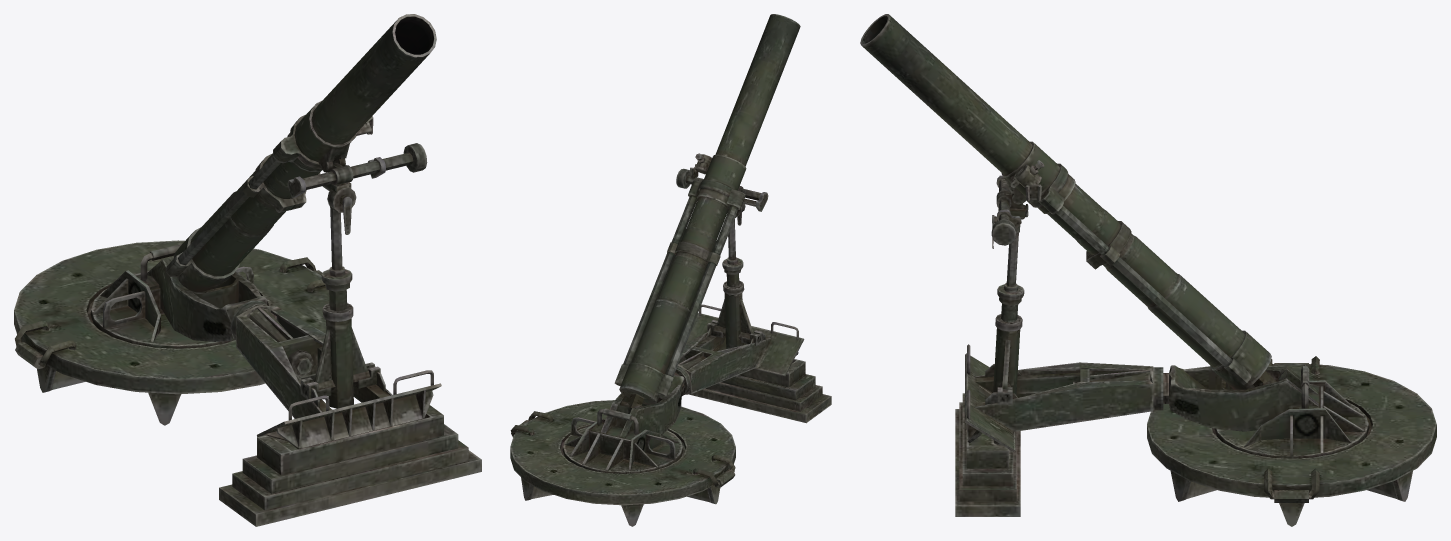
Rendered from m30_mortar_warno.glb.
The picture shows the model from 3 angles, left to right: view 1: azimuth 30°, elevation 25°; view 2: azimuth 150°, elevation 25°; view 3: azimuth 270°, elevation 25°; orthographic projection. The views are drawn at different scales.
Parts seen in each view (by area): view 1: Object_2; view 2: Object_2; view 3: Object_2.
Boxes of the visible parts, bbox=[...] form: Object_2: bbox=[14, 14, 481, 526]; Object_2: bbox=[510, 14, 831, 526]; Object_2: bbox=[860, 14, 1436, 526].
Size of the model in its own units: 1.93 by 3.08 by 3.56.
1 material, 1 textured.
